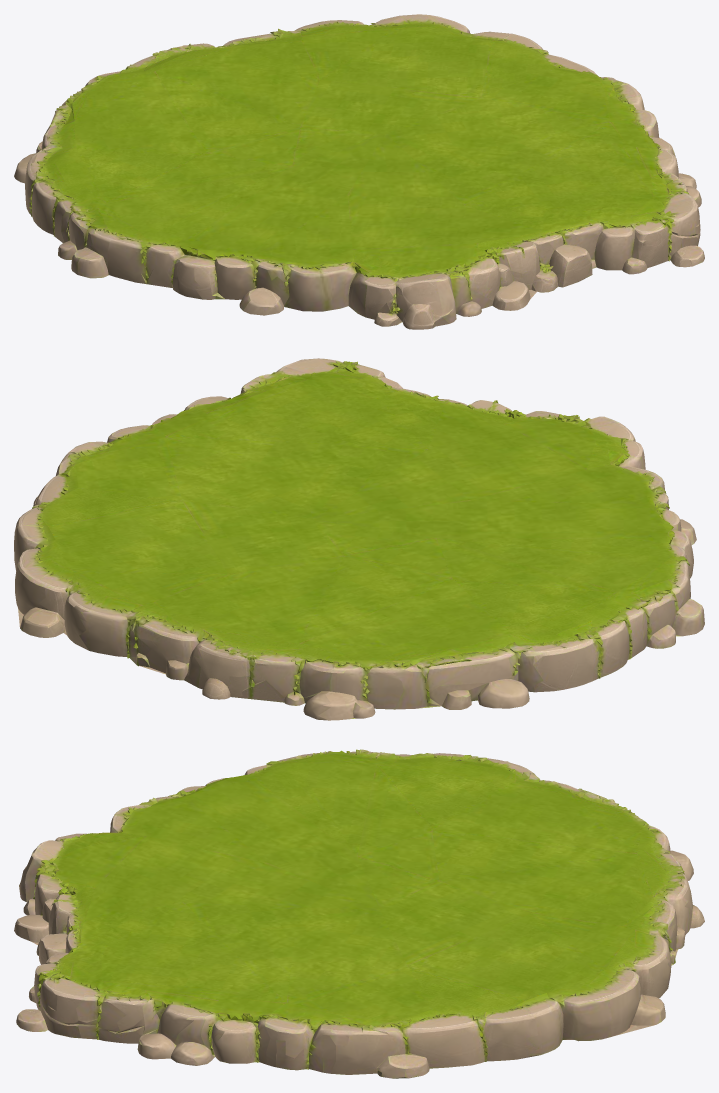
The model's file is floating-island.glb.
3 renders of one model, top to bottom at view 1: azimuth 30°, elevation 25°; view 2: azimuth 150°, elevation 25°; view 3: azimuth 270°, elevation 25°, orthographic. The views are drawn at different scales.
Parts seen in each view (by area): view 1: output_unwrapped; view 2: output_unwrapped; view 3: output_unwrapped.
Part boxes in pixels (x1,y1,x2,y2): output_unwrapped: [14, 14, 704, 329]; output_unwrapped: [14, 358, 704, 720]; output_unwrapped: [14, 749, 704, 1078].
Bounding box in the file's own units: 1.9 × 0.1331 × 1.85.
Materials: 1 (1 with a texture image).
